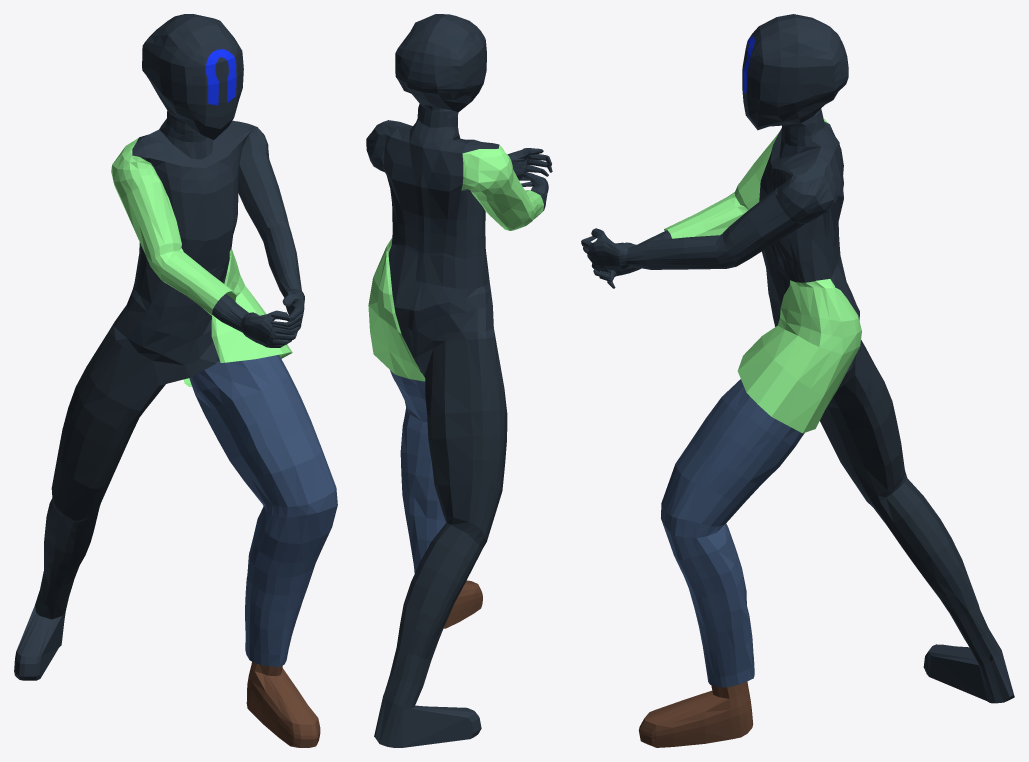
Rendered from Mar_WL_000003.obj.
3 renders of one model, left to right at view 1: azimuth 30°, elevation 25°; view 2: azimuth 150°, elevation 25°; view 3: azimuth 270°, elevation 25°, orthographic. The views are drawn at different scales.
Visible parts, largest first — view 1: Cube.000_Cube.001; view 2: Cube.000_Cube.001; view 3: Cube.000_Cube.001.
Part boxes in pixels (x1,y1,x2,y2): Cube.000_Cube.001: [14, 14, 337, 747]; Cube.000_Cube.001: [366, 14, 552, 747]; Cube.000_Cube.001: [581, 14, 1014, 747].
Bounding box in the file's own units: 1.1 × 3.71 × 2.07.
